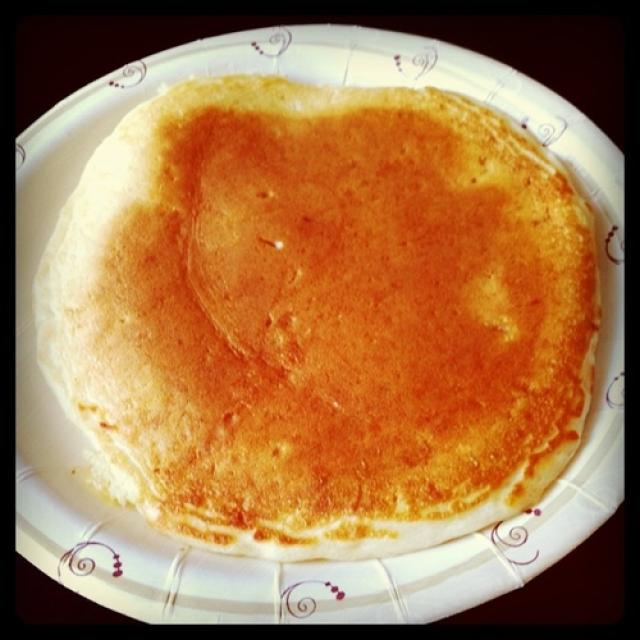蛋糕甜品: (26, 48, 613, 596)
